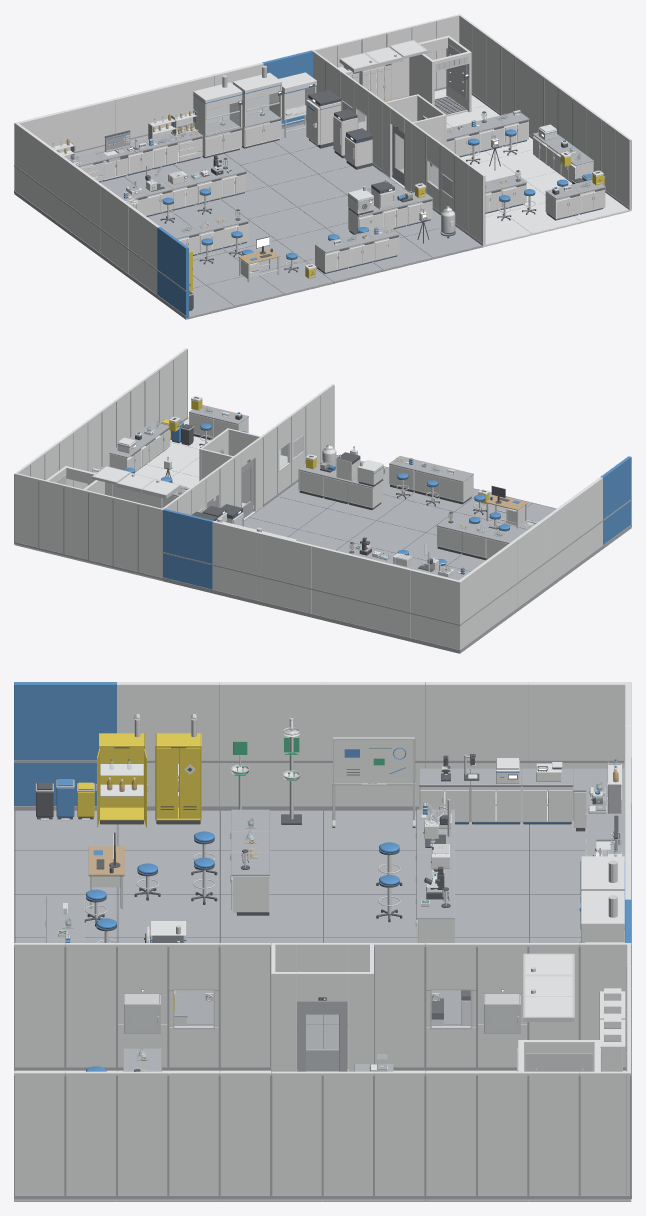
Rendered from science-laboratory-cleanroom-floor.glb.
3 renders of one model, top to bottom at view 1: azimuth 30°, elevation 25°; view 2: azimuth 150°, elevation 25°; view 3: azimuth 270°, elevation 25°, orthographic. The views are drawn at different scales.
Parts seen in each view (by area): view 1: 076-interlocked-door-pair/0, 184-air-shower-vestibule/0, 065-lab-wall-module-blue/0, 055-lab-wall-module/0, 062-lab-wall-module/0, 147-fume-cupboard/1, 056-lab-wall-module/0, 061-lab-wall-module/0, 063-lab-wall-module/0, 064-lab-wall-module/0, 060-lab-wall-module/0, 148-fume-cupboard-sash-open/1 (+66 smaller); view 2: 057-lab-wall-module/0, 055-lab-wall-module/0, 056-lab-wall-module/0, 054-lab-wall-module/0, 059-lab-wall-module-blue/0, 058-lab-wall-module/0, 076-interlocked-door-pair/0, 063-lab-wall-module/0, 064-lab-wall-module/0, 061-lab-wall-module/0, 062-lab-wall-module/0, 065-lab-wall-module-blue/0 (+46 smaller); view 3: 063-lab-wall-module/0, 065-lab-wall-module-blue/0, 076-interlocked-door-pair/0, 062-lab-wall-module/0, 061-lab-wall-module/0, 060-lab-wall-module/0, 064-lab-wall-module/0, 084-cleanroom-wall-panel/0, 086-cleanroom-wall-panel/0, 089-cleanroom-wall-panel/0, 091-cleanroom-wall-panel/0, 093-cleanroom-wall-panel/0 (+83 smaller).
Part boxes in pixels (x1,y1,x2,y2): 076-interlocked-door-pair/0: [383, 94, 446, 192]; 184-air-shower-vestibule/0: [409, 35, 471, 112]; 065-lab-wall-module-blue/0: [157, 227, 188, 317]; 055-lab-wall-module/0: [64, 98, 114, 158]; 062-lab-wall-module/0: [71, 164, 102, 252]; 147-fume-cupboard/1: [193, 82, 242, 156]; 056-lab-wall-module/0: [114, 86, 164, 142]; 061-lab-wall-module/0: [43, 143, 73, 231]; 063-lab-wall-module/0: [100, 185, 131, 273]; 064-lab-wall-module/0: [129, 206, 159, 294]; 060-lab-wall-module/0: [14, 122, 45, 210]; 148-fume-cupboard-sash-open/1: [233, 72, 281, 147]; 057-lab-wall-module/0: [262, 533, 312, 613]; 055-lab-wall-module/0: [361, 557, 411, 637]; 056-lab-wall-module/0: [311, 545, 362, 625]; 054-lab-wall-module/0: [410, 569, 461, 649]; 059-lab-wall-module-blue/0: [163, 508, 213, 589]; 058-lab-wall-module/0: [212, 521, 262, 601]; 076-interlocked-door-pair/0: [199, 428, 262, 511]; 063-lab-wall-module/0: [543, 498, 574, 586]; 064-lab-wall-module/0: [572, 477, 602, 565]; 061-lab-wall-module/0: [486, 540, 516, 628]; 062-lab-wall-module/0: [514, 519, 545, 607]; 065-lab-wall-module-blue/0: [600, 456, 631, 544]; 063-lab-wall-module/0: [219, 682, 322, 805]; 065-lab-wall-module-blue/0: [14, 682, 116, 805]; 076-interlocked-door-pair/0: [271, 943, 373, 1071]; 062-lab-wall-module/0: [322, 682, 425, 805]; 061-lab-wall-module/0: [425, 682, 528, 768]; 060-lab-wall-module/0: [528, 682, 630, 768]; 064-lab-wall-module/0: [117, 682, 219, 805]; 084-cleanroom-wall-panel/0: [528, 1071, 579, 1195]; 086-cleanroom-wall-panel/0: [425, 1071, 476, 1195]; 089-cleanroom-wall-panel/0: [271, 1071, 322, 1195]; 091-cleanroom-wall-panel/0: [168, 1071, 219, 1195]; 093-cleanroom-wall-panel/0: [65, 1071, 116, 1195].
Bounding box in the file's own units: 18.03 × 2.82 × 12.02.
